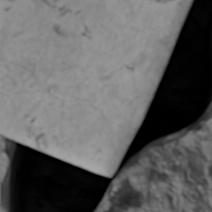brick: (0, 0, 191, 175)
crack: (2, 0, 211, 211)
